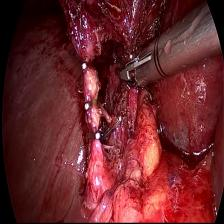Clipper: (113, 23, 168, 97)
